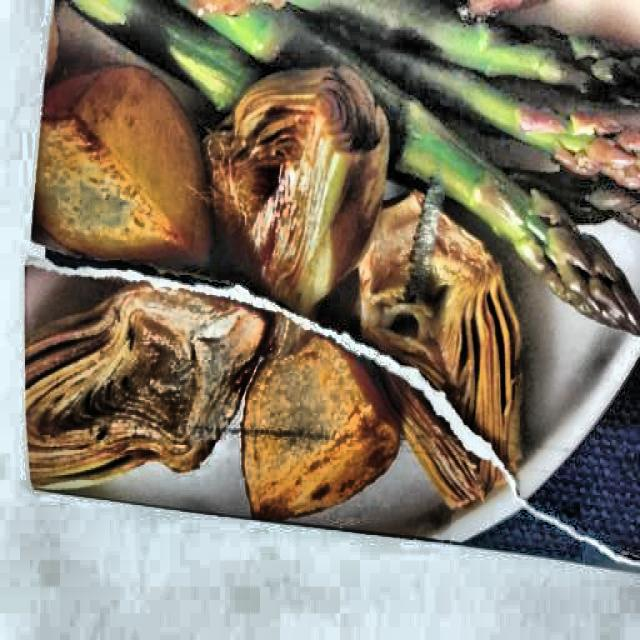paper: (15, 0, 640, 562)
